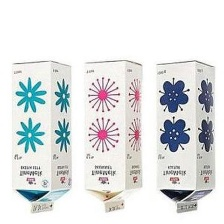carton: (77, 58, 146, 217), (150, 57, 219, 214), (7, 59, 73, 216)
